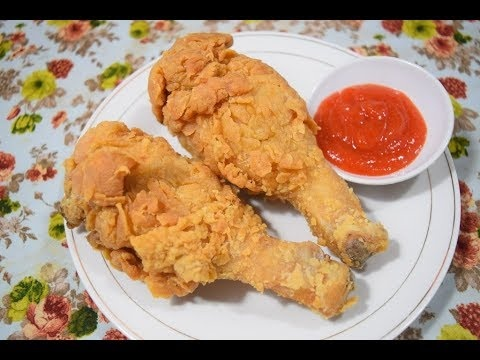ayam_goreng: (35, 120, 362, 311), (141, 29, 391, 276)
